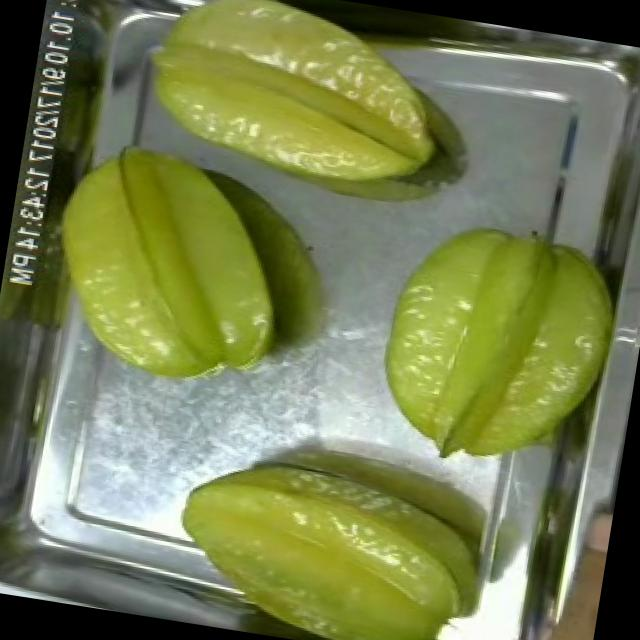fruit: (356, 197, 640, 496), (27, 118, 313, 406), (117, 0, 475, 220), (154, 426, 508, 640)
